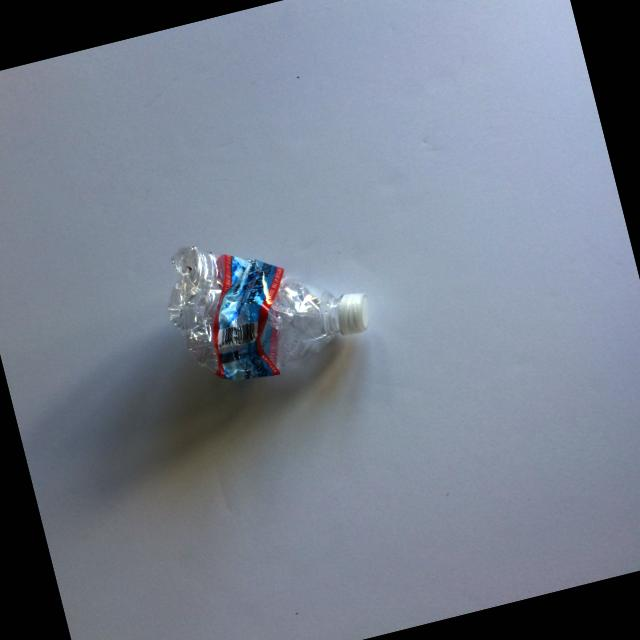Plastic: (119, 196, 392, 428)
